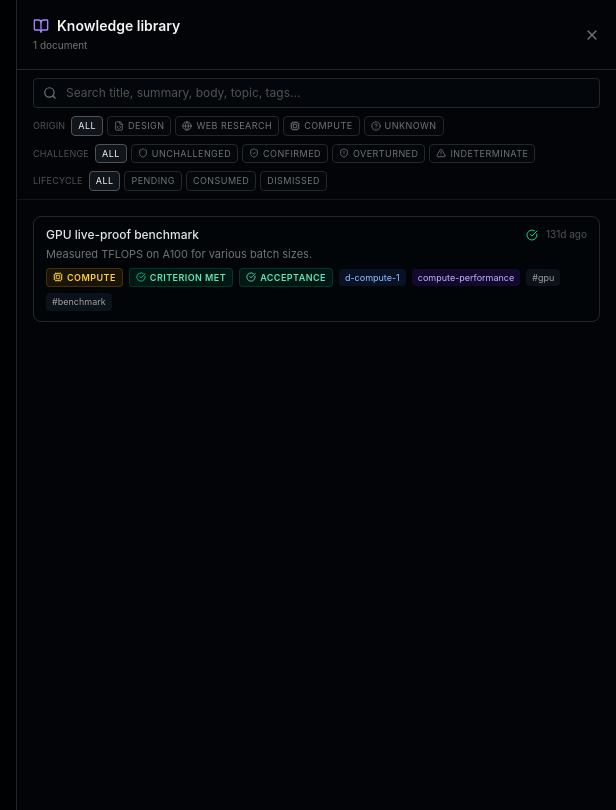
Test: KnowledgeBrowser — live proof release evidence › live-proof compute doc shows the Live Proof Context block with version, short SHA, and serving status
This screenshot has width=616, height=810.
Click the button that starts with "GPU live-proof benchmark" at coordinates (316, 269), box [33,216,600,322]
Wait 50 ms
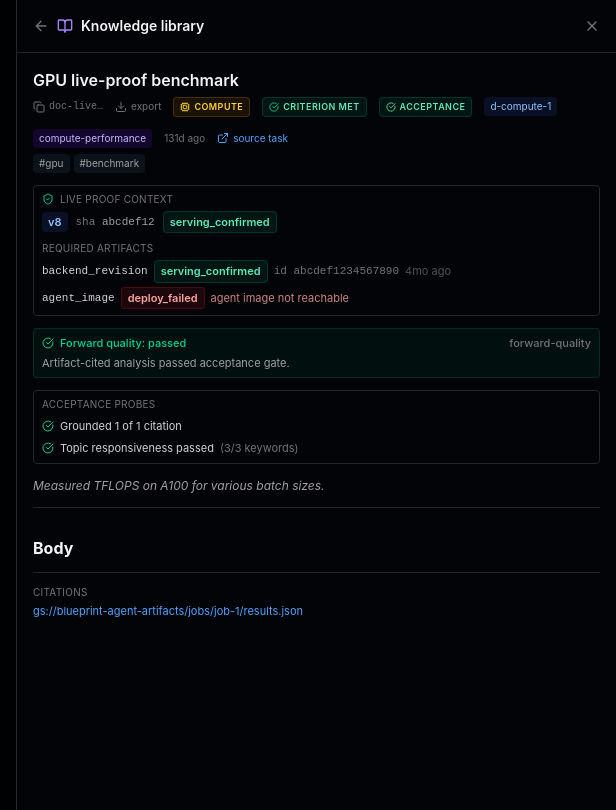
Expected: the element with test id "release-evidence-panel" is shown, [33,184,600,316]
Expected: the element with test id "release-evidence-panel" shows "Live Proof Context", [60,192,173,204]
Expected: the element with test id "release-evidence-panel" shows "v8", [48,214,62,228]
